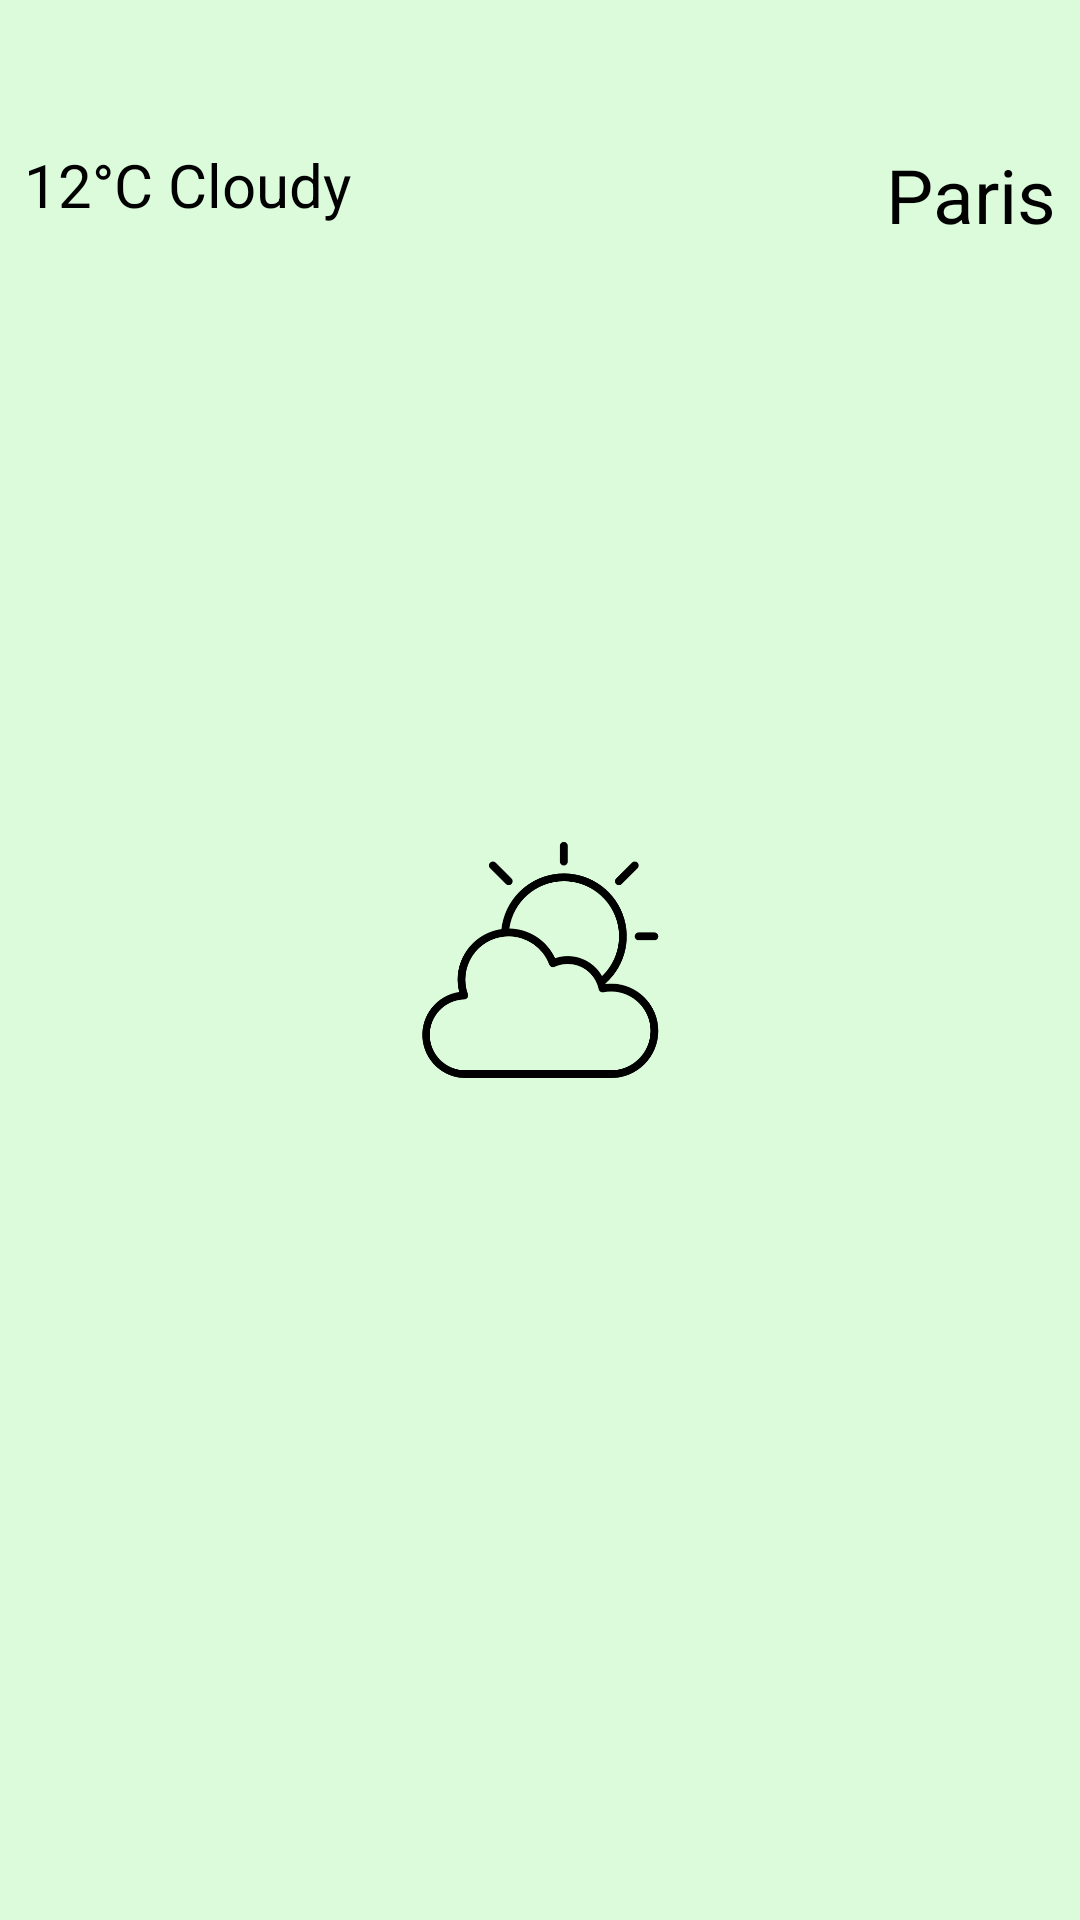

Locate icon controls on the screen. Image size 1080x1920, boxes as {"x1": x1, "y1": y1, "x2": x2, "y2": y2}.
cloudy: {"x1": 422, "y1": 842, "x2": 659, "y2": 1078}
